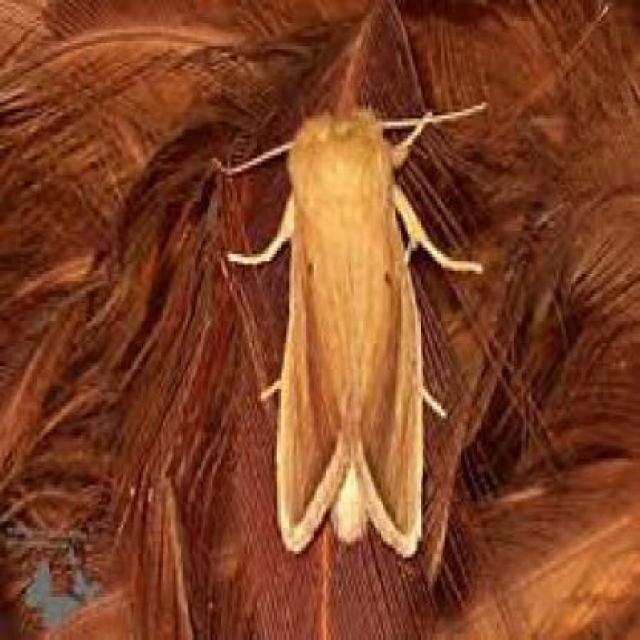stem-borer: (266, 100, 432, 563)
